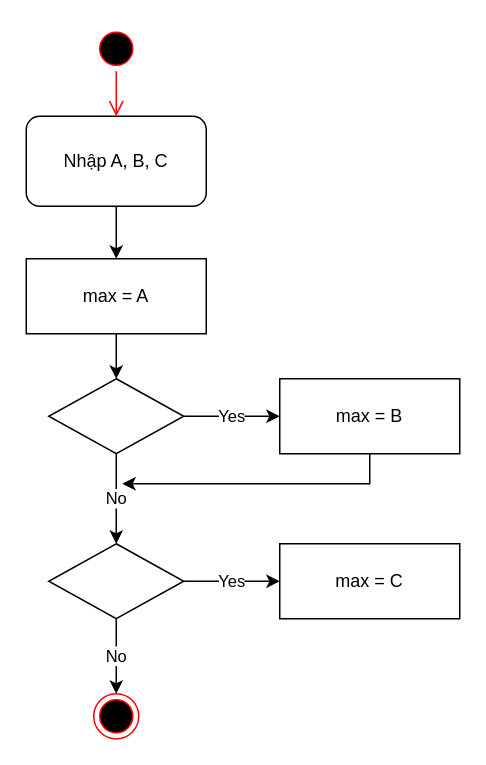
Image size: 486x765. Some labels were removed from this diagram. Here are the shapes that lost their labels. From the top down, the centre of each, then its label:
the point at 115,415: B > max
the point at 115,580: C > max
